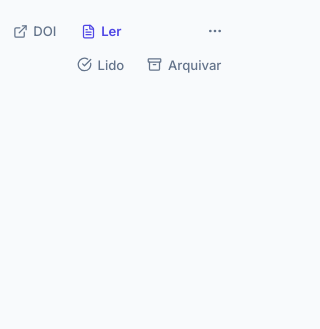
Scenario: ArticleRowActions menu › groups the actions and leaves the DOI out, since it has its own button
This screenshot has width=320, height=329.
Click the button named "Mais ações" at (215, 31), box [199,15,231,47]
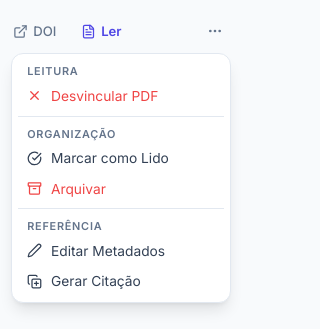
Now the menu items read "Desvincular PDF", "Marcar como Lido", "Arquivar", "Editar Metadados", "Gerar Citação", in this order, box [18,81,224,111]; [18,143,224,173]; [18,173,224,204]; [18,236,224,266]; [18,266,224,296]
